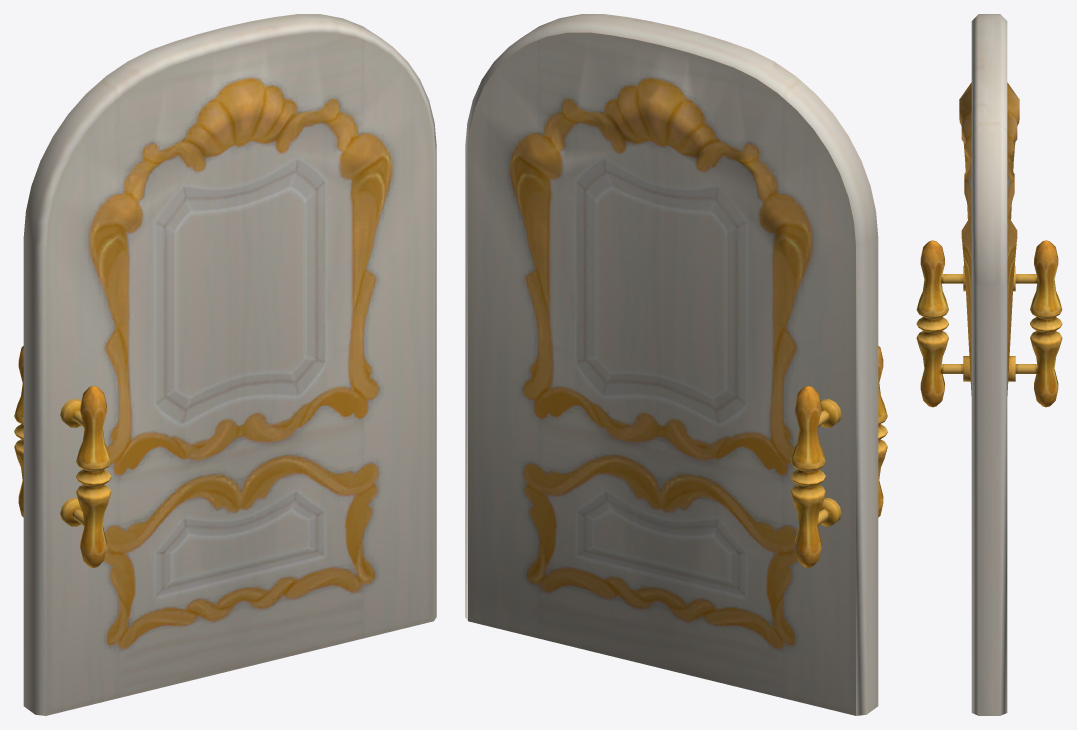
The model's file is door_carving_ar.glb.
The picture shows the model from 3 angles, left to right: view 1: azimuth 30°, elevation 25°; view 2: azimuth 150°, elevation 25°; view 3: azimuth 270°, elevation 25°; orthographic projection. The views are drawn at different scales.
Visible parts, largest first — view 1: group22__mDoorR; view 2: group22__mDoorR; view 3: group22__mDoorR.
Part boxes in pixels (x1,y1,x2,y2): group22__mDoorR: (14, 14, 436, 715); group22__mDoorR: (465, 14, 887, 715); group22__mDoorR: (916, 14, 1062, 715).
Size of the model in its own units: 12 by 18 by 4.13.
1 material, 1 textured.
